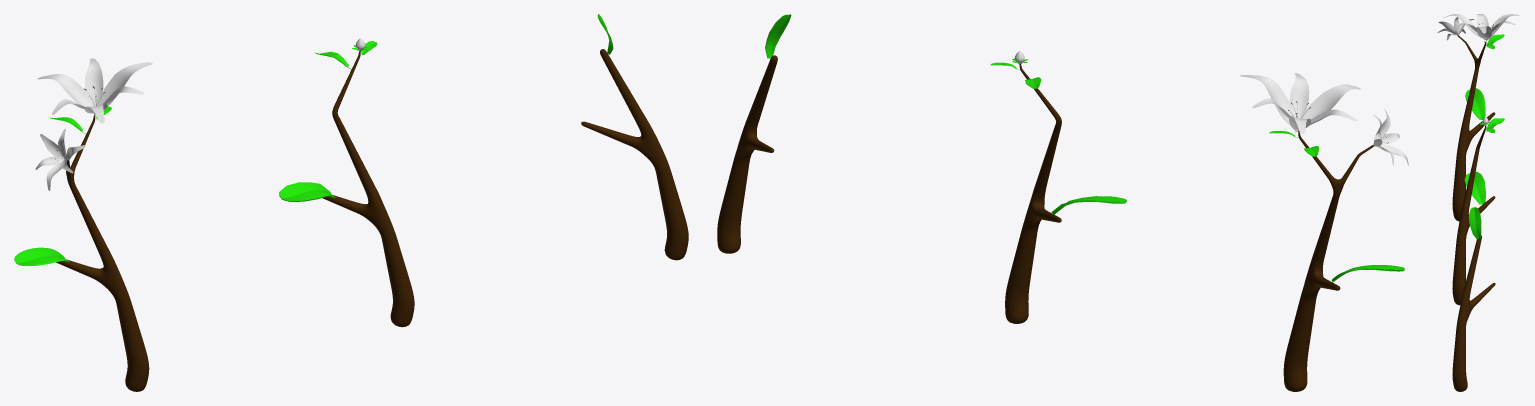
File: floer.fbx
The picture shows the model from 3 angles, left to right: view 1: azimuth 30°, elevation 25°; view 2: azimuth 150°, elevation 25°; view 3: azimuth 270°, elevation 25°; orthographic projection. The views are drawn at different scales.
Parts seen in each view (by area): view 1: Plane.002, Plane, Plane.001; view 2: Plane.002, Plane, Plane.001; view 3: Plane.002, Plane, Plane.001.
Part boxes in pixels (x1,y1,x2,y2): Plane.002: [14, 58, 152, 391]; Plane: [279, 38, 414, 327]; Plane.001: [581, 14, 688, 260]; Plane.002: [1240, 73, 1408, 391]; Plane: [990, 51, 1126, 323]; Plane.001: [717, 14, 791, 253]; Plane.002: [1437, 14, 1519, 221]; Plane: [1452, 117, 1504, 305]; Plane.001: [1452, 207, 1495, 391].
Bounding box in the file's own units: 1606 × 712 × 270.
